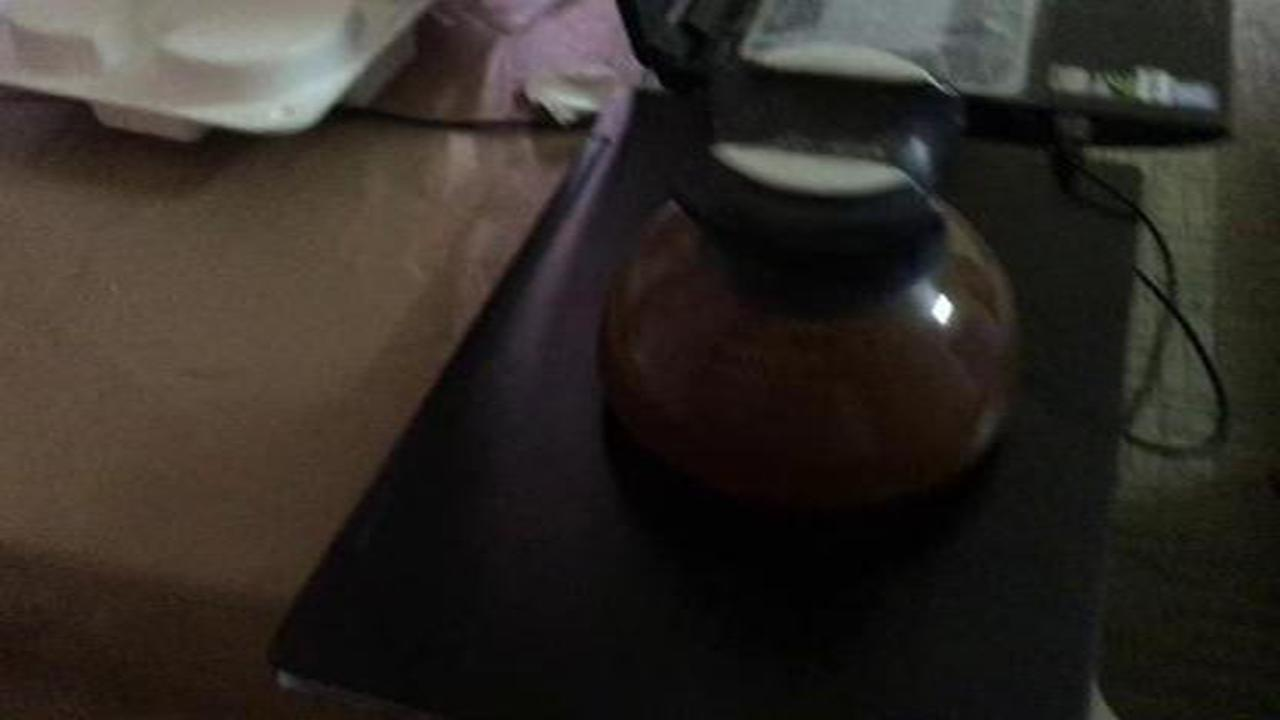insulator_pin: (585, 14, 1044, 539)
